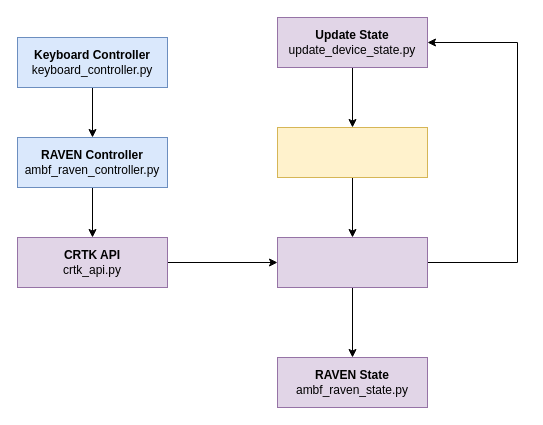
Image size: 543x425. Some labels were removed from this diagram. The shapes that lost their labels are listed below. From the top down, each one's centre as x and y in pixels, then its label:
point 352,152: AMBF RAVEN-II
point 352,262: Robot State robot_state.py
